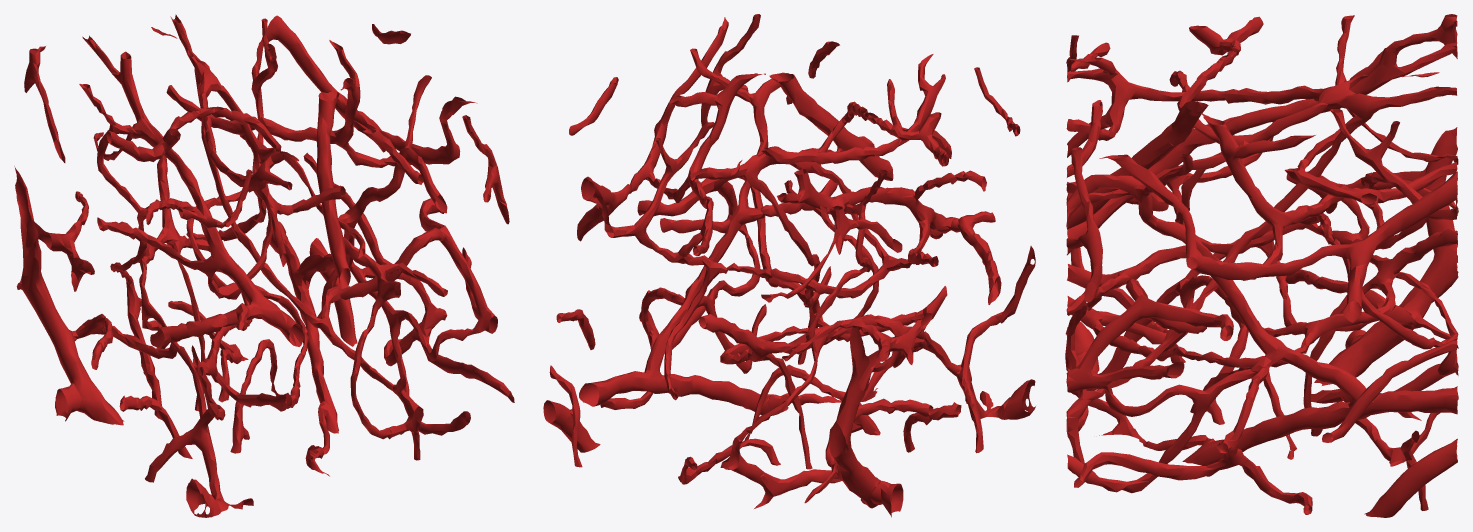
File: ground_segmentation.glb
3 renders of one model, left to right at view 1: azimuth 30°, elevation 25°; view 2: azimuth 150°, elevation 25°; view 3: azimuth 270°, elevation 25°, orthographic. The views are drawn at different scales.
Visible parts, largest first — view 1: Volume; view 2: Volume; view 3: Volume.
Boxes of the visible parts, box(x1,y1,x2,y2) form: Volume: box(14, 14, 514, 517); Volume: box(543, 14, 1035, 517); Volume: box(1065, 14, 1458, 517).
Size of the model in its own units: 49.68 by 49.52 by 49.59.
